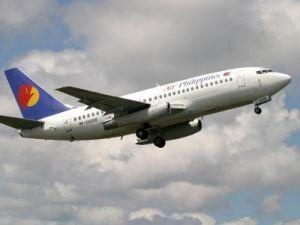airplane: (1, 59, 292, 148)
